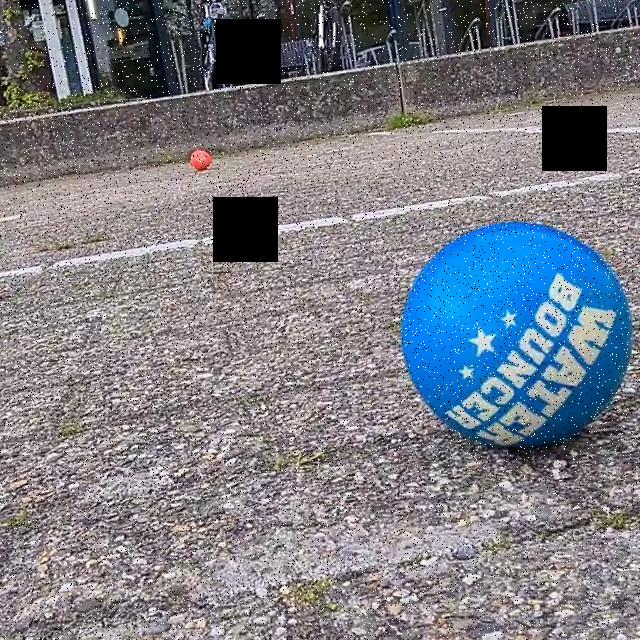ball: (186, 147, 212, 174)
